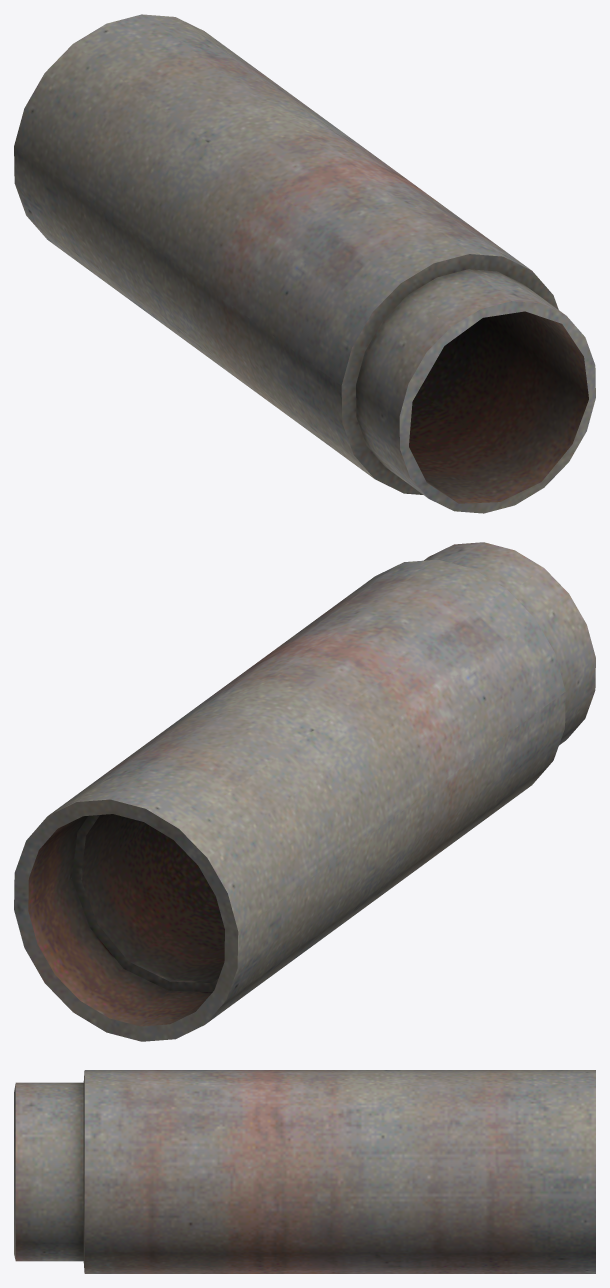
File: construction.012_construction_assets_0.001_lev3.glb
The picture shows the model from 3 angles, top to bottom: view 1: azimuth 30°, elevation 25°; view 2: azimuth 150°, elevation 25°; view 3: azimuth 270°, elevation 25°; orthographic projection. The views are drawn at different scales.
Parts seen in each view (by area): view 1: construction.012_construction_assets_0.001_lev3; view 2: construction.012_construction_assets_0.001_lev3; view 3: construction.012_construction_assets_0.001_lev3.
Boxes of the visible parts, x1,y1,x2,y2 form: construction.012_construction_assets_0.001_lev3: [14, 14, 595, 513]; construction.012_construction_assets_0.001_lev3: [14, 542, 595, 1041]; construction.012_construction_assets_0.001_lev3: [14, 1070, 595, 1273].
Bounding box in the file's own units: 3.5 × 3.49 × 10.07.
Materials: 1 (1 with a texture image).
